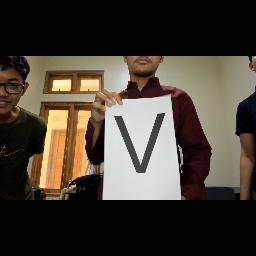v: (111, 112, 173, 178)
